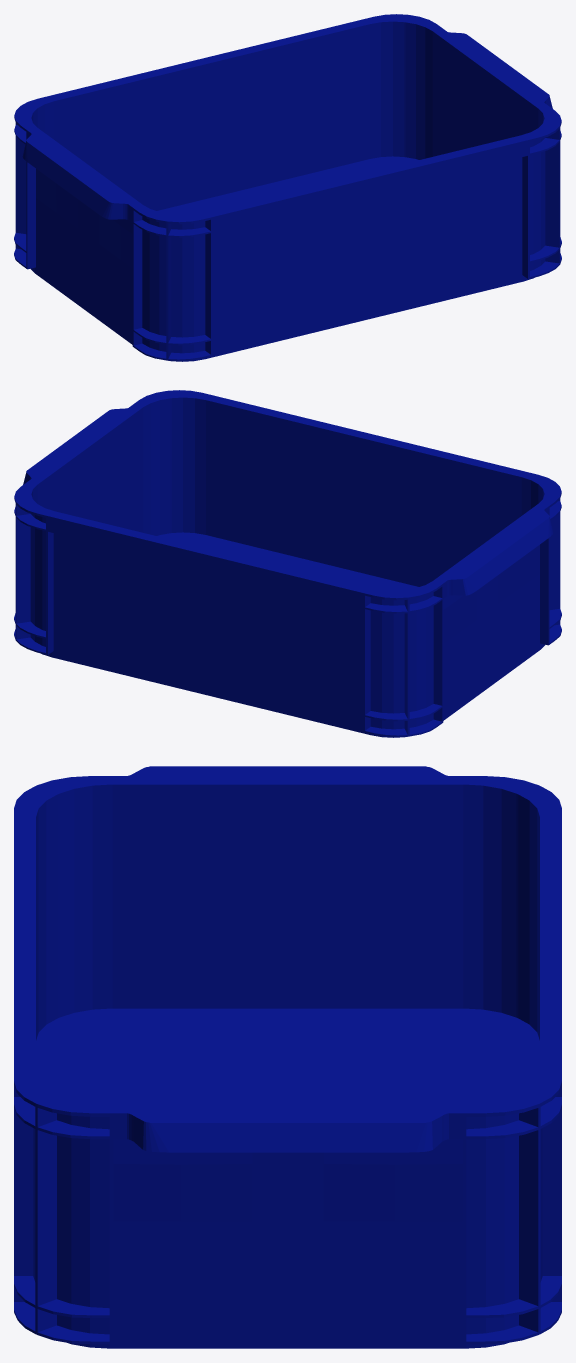
Rendered from Bluebox.fbx.
The picture shows the model from 3 angles, top to bottom: view 1: azimuth 30°, elevation 25°; view 2: azimuth 150°, elevation 25°; view 3: azimuth 270°, elevation 25°; orthographic projection. The views are drawn at different scales.
Parts seen in each view (by area): view 1: AoBox; view 2: AoBox; view 3: AoBox.
Part boxes in pixels (box(x1,y1,x2,y2)): AoBox: box(14, 14, 561, 361); AoBox: box(14, 390, 561, 737); AoBox: box(14, 766, 561, 1348).
Size of the model in its own units: 338 by 105 by 215.
